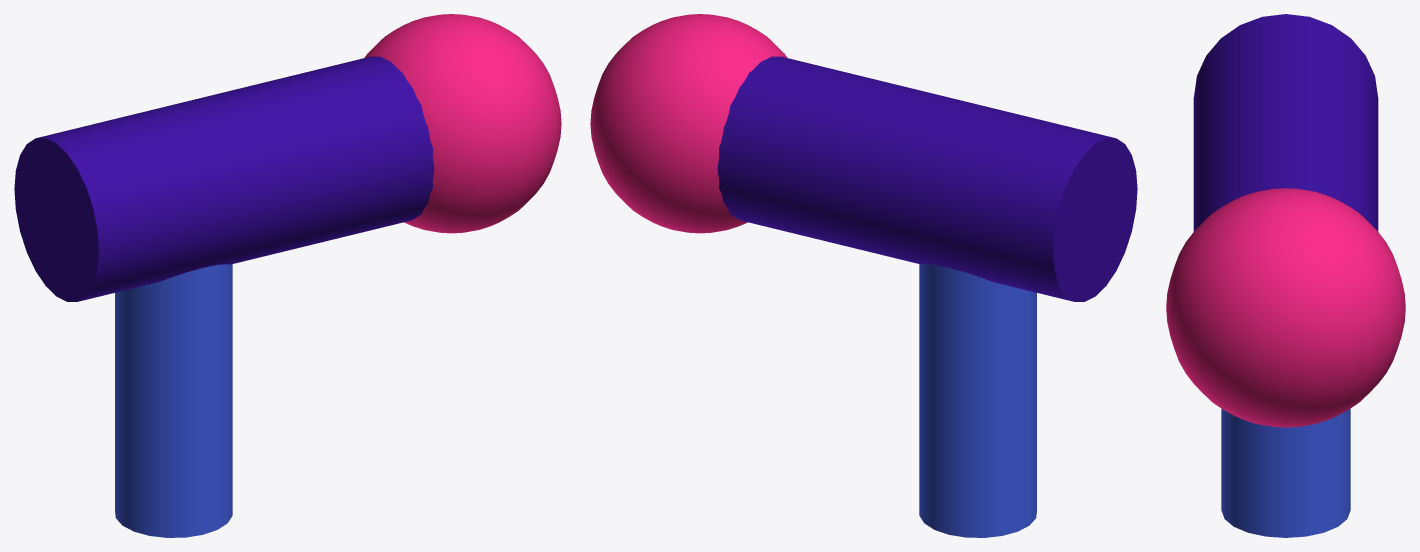
The model's file is massage_gun.glb.
3 renders of one model, left to right at view 1: azimuth 30°, elevation 25°; view 2: azimuth 150°, elevation 25°; view 3: azimuth 270°, elevation 25°, orthographic. The views are drawn at different scales.
Visible parts, largest first — view 1: model_massage_gun; view 2: model_massage_gun; view 3: model_massage_gun.
Boxes of the visible parts, box(x1,y1,x2,y2) form: model_massage_gun: box(14, 14, 561, 537); model_massage_gun: box(590, 14, 1137, 537); model_massage_gun: box(1166, 14, 1405, 537).
Size of the model in its own units: 3.35 by 2.75 by 1.3.
